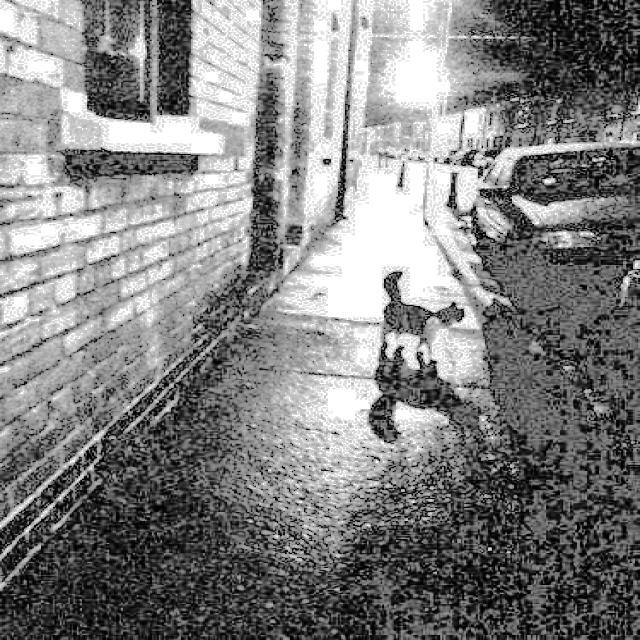Car: (479, 150, 640, 310)
Cat: (375, 272, 468, 367)
